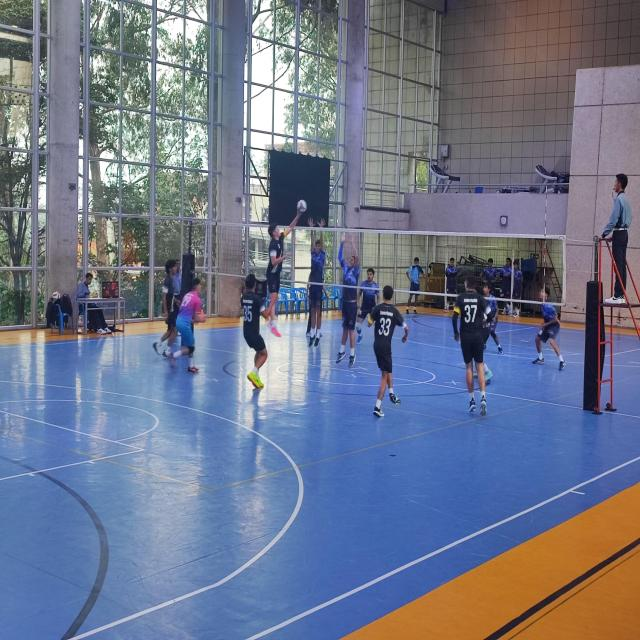volleyball: (297, 200, 307, 212)
